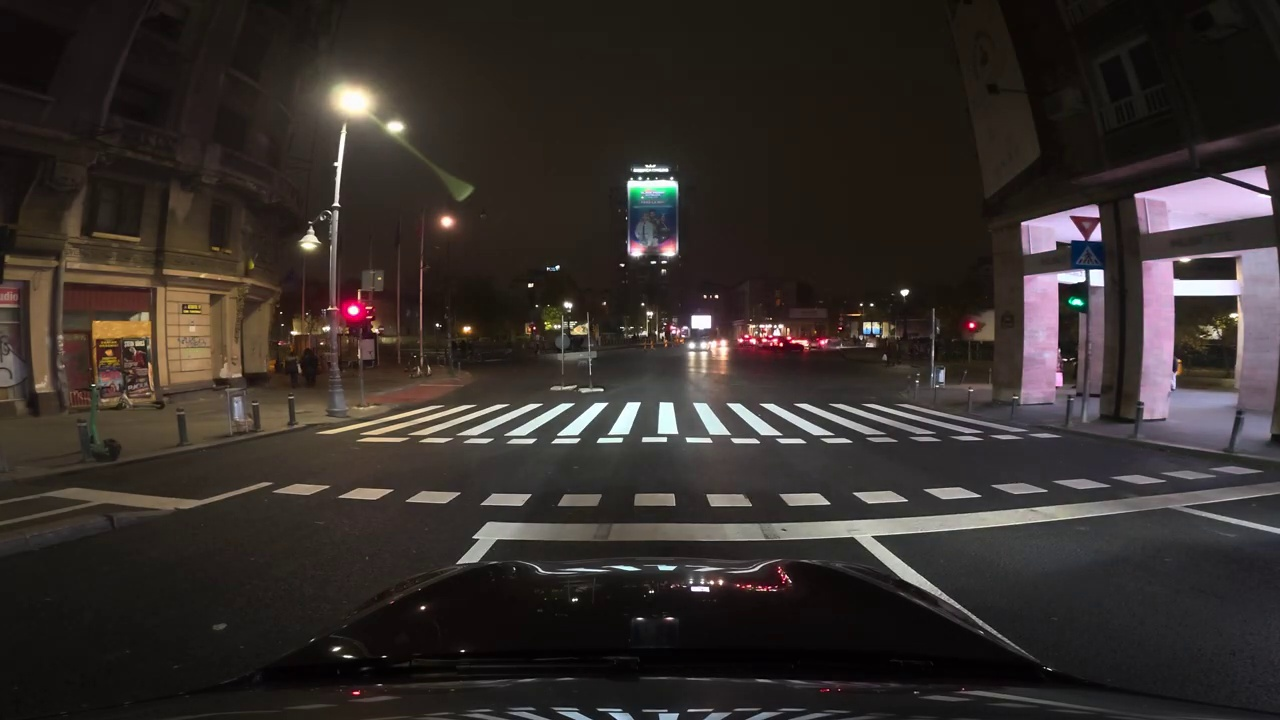acesa: (334, 86, 371, 117), (299, 231, 324, 256), (435, 213, 458, 233), (384, 120, 406, 139), (895, 284, 913, 302)
